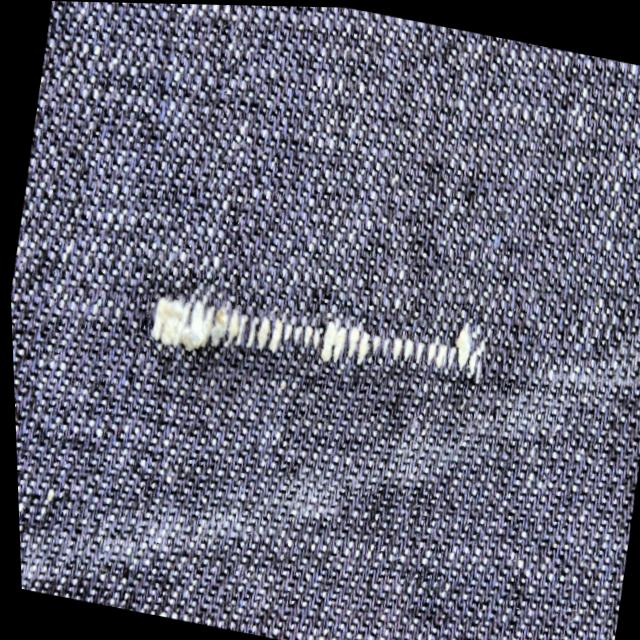Hole: (112, 261, 252, 377), (370, 302, 511, 414), (242, 287, 375, 398)
